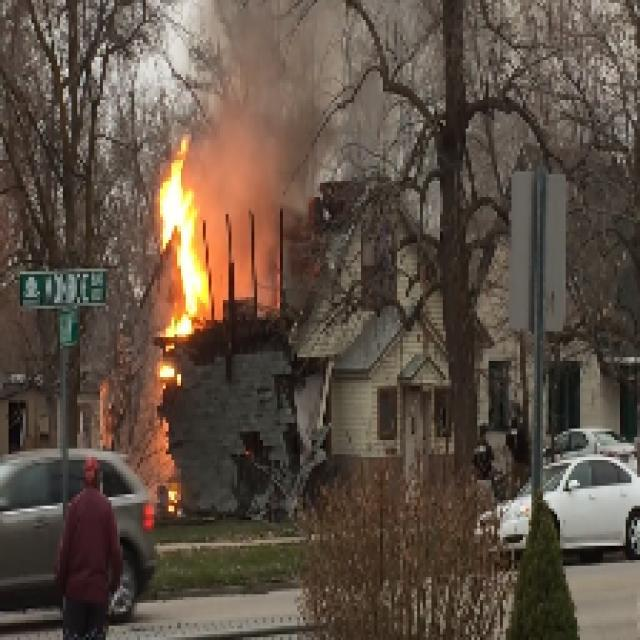Fire: (153, 141, 213, 332)
Smoke: (218, 45, 292, 278)
